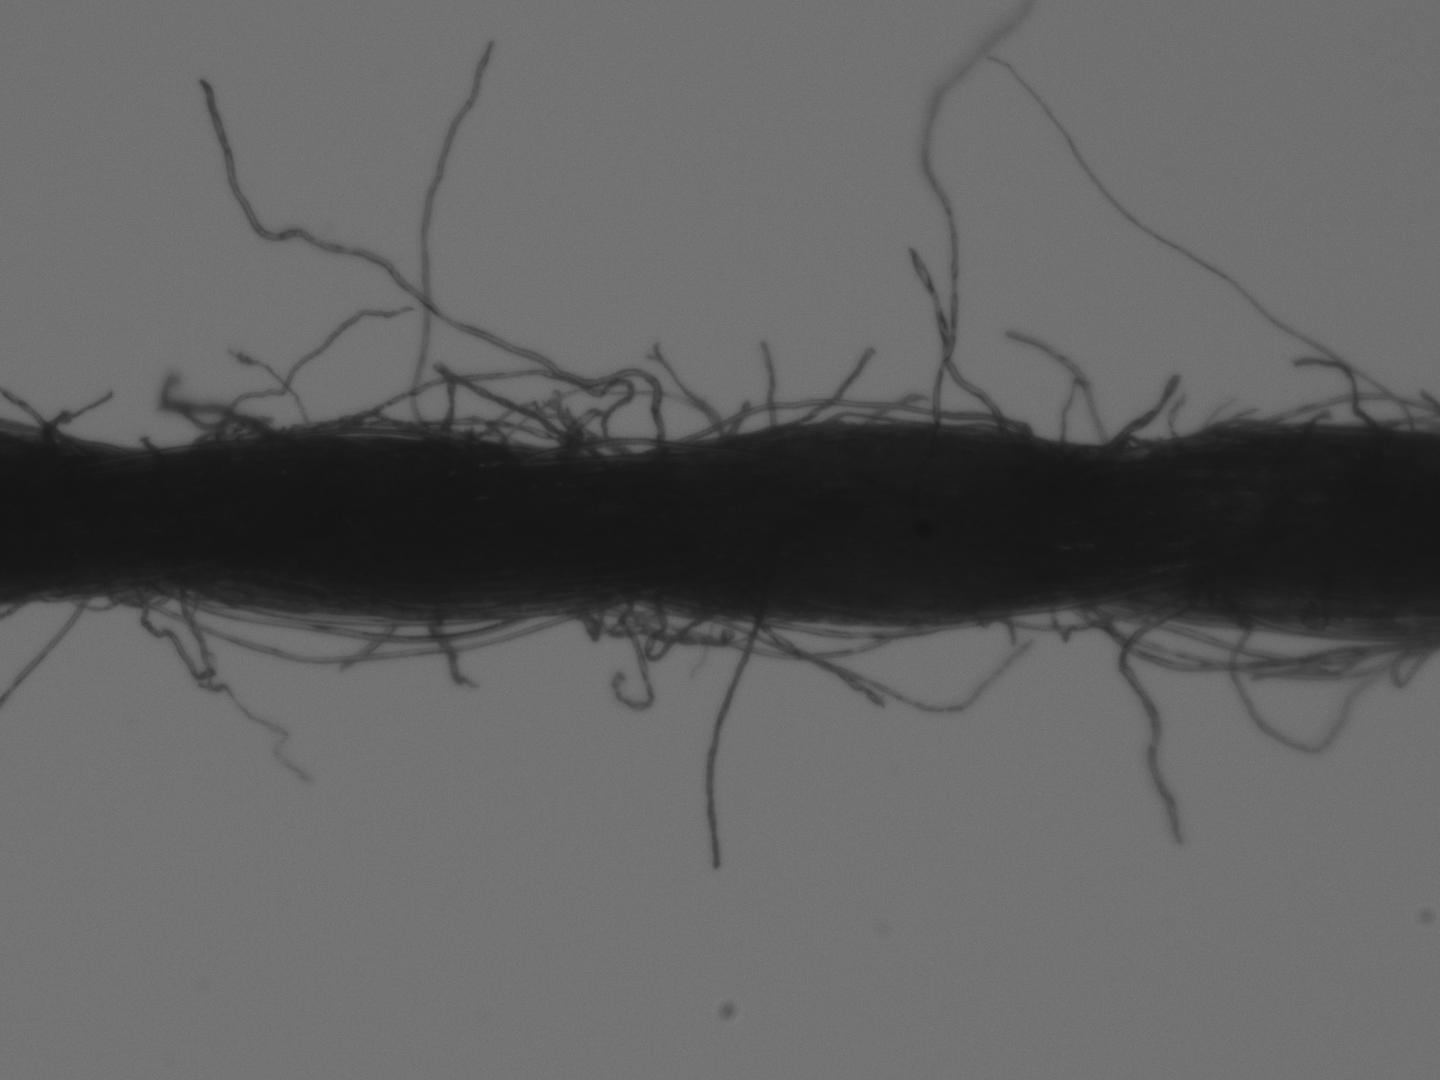loop_fiber: (136, 589, 601, 672), (337, 369, 633, 463), (1084, 610, 1411, 673), (434, 363, 610, 463), (684, 398, 1033, 444), (465, 390, 629, 457), (610, 598, 732, 667), (993, 590, 1178, 633), (139, 584, 220, 683), (534, 436, 694, 461), (201, 415, 285, 447), (68, 592, 136, 615)
protruding_fiber: (700, 617, 769, 870), (1110, 376, 1184, 445), (755, 336, 781, 432)
